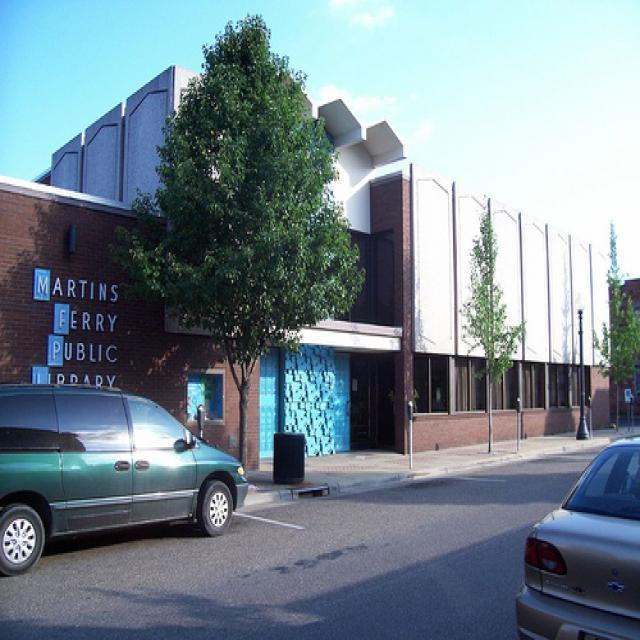Car: (1, 358, 263, 594), (487, 421, 640, 640)
